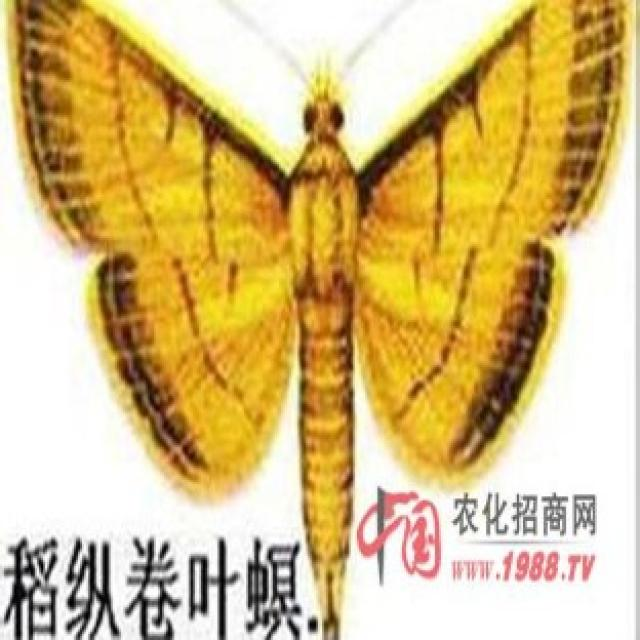rice leaf roller: (14, 0, 626, 636)
